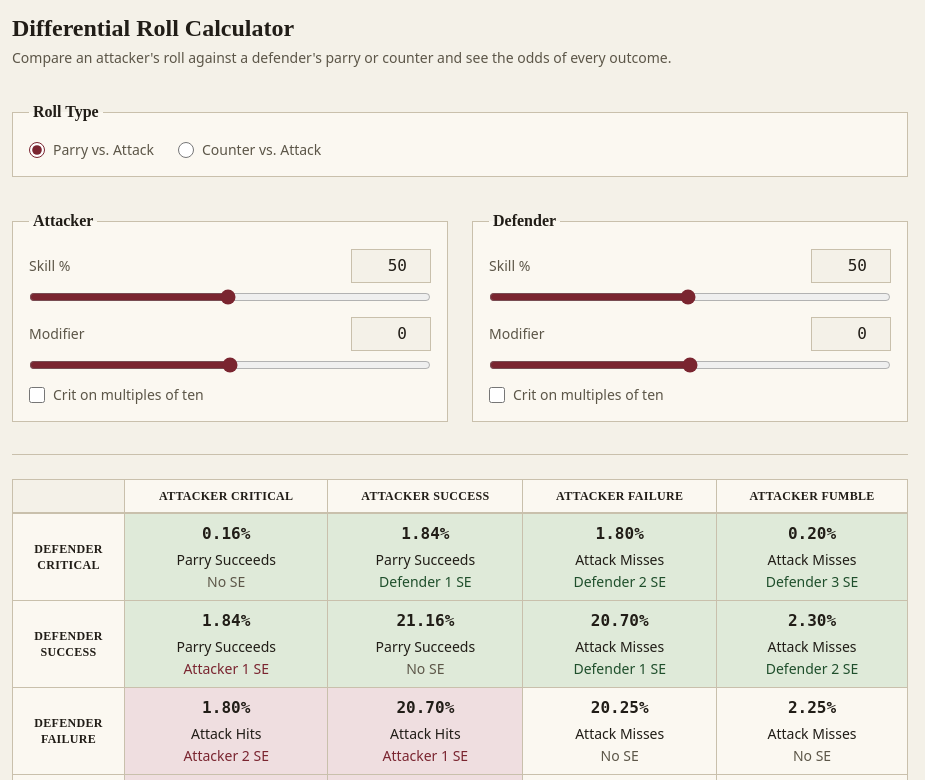
it: DifferentialRollCalculator › shows a validation message instead of results when attacker input is invalid
Replace the text in the 1st number field labelled "Skill %" with "0" at (391, 266), box top-left (351, 249), bottom-right (431, 283)
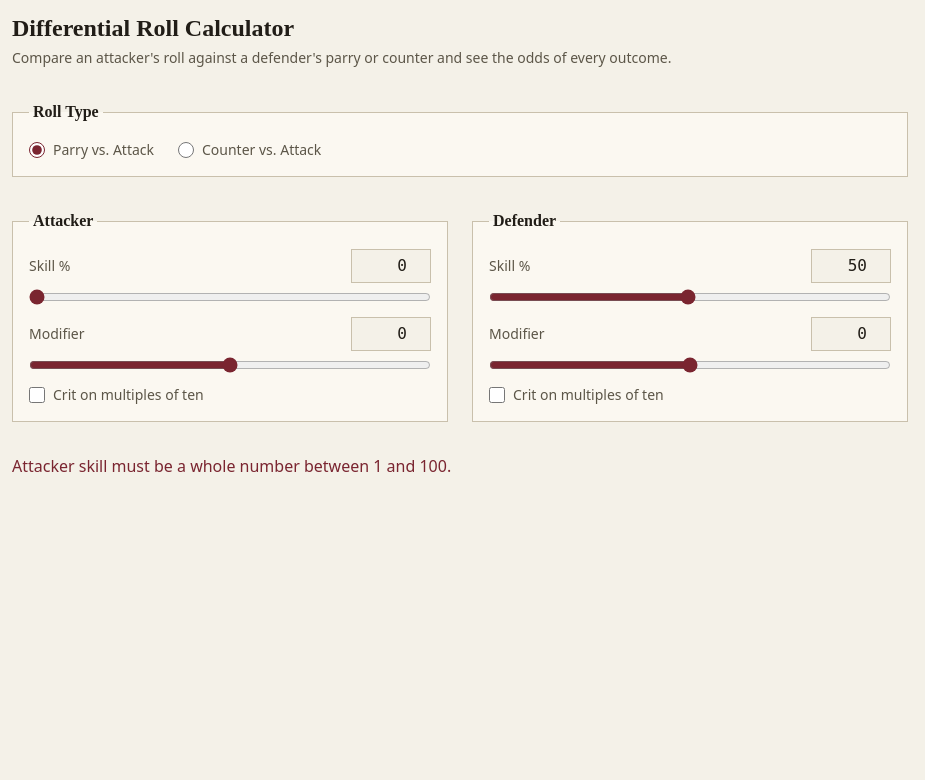
Check: the message shows "Attacker skill must be", box top-left (12, 455), bottom-right (451, 477)
